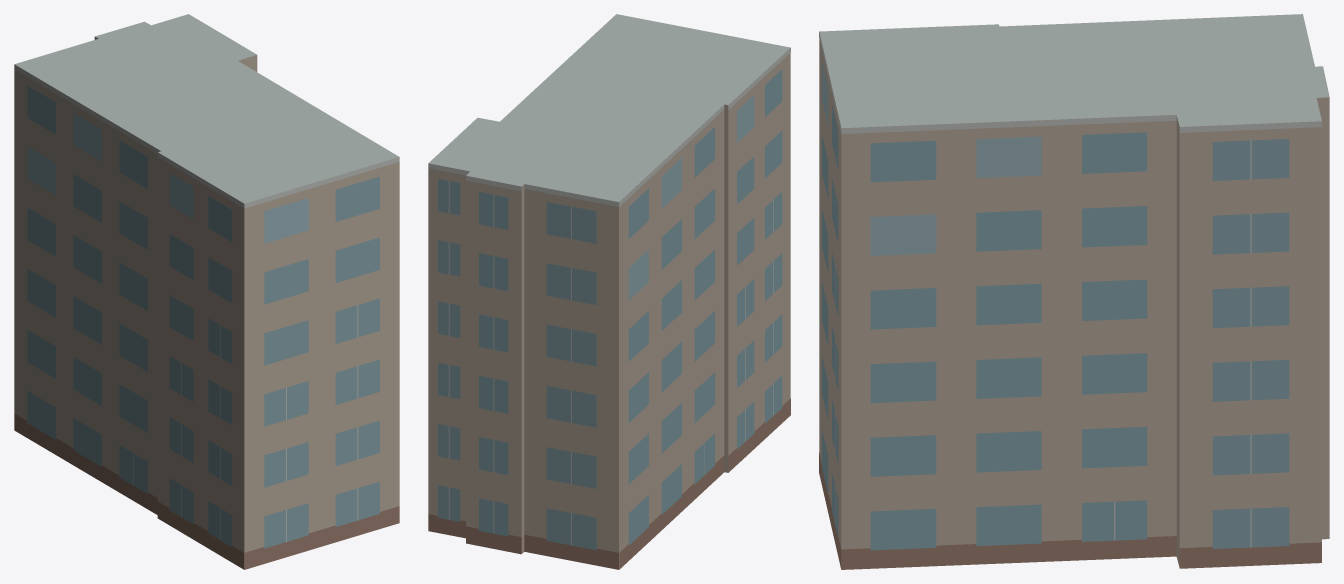
The model's file is survey-upis-32567344.glb.
The picture shows the model from 3 angles, left to right: view 1: azimuth 30°, elevation 25°; view 2: azimuth 150°, elevation 25°; view 3: azimuth 270°, elevation 25°; orthographic projection. The views are drawn at different scales.
Parts seen in each view (by area): view 1: survey-upis-32567344.tmp; view 2: survey-upis-32567344.tmp; view 3: survey-upis-32567344.tmp.
Boxes of the visible parts, box(x1,y1,x2,y2) form: survey-upis-32567344.tmp: box(14, 14, 399, 569); survey-upis-32567344.tmp: box(428, 14, 790, 569); survey-upis-32567344.tmp: box(819, 14, 1329, 569).
Bounding box in the file's own units: 10.16 × 18.3 × 19.18.
